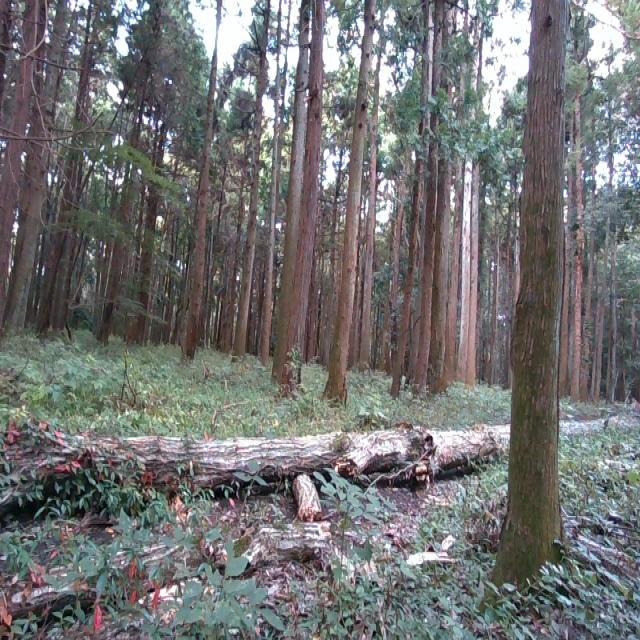tree: (0, 404, 640, 502), (489, 0, 591, 587), (270, 0, 326, 403), (6, 0, 65, 355), (329, 0, 378, 408), (390, 0, 431, 395), (100, 40, 152, 338), (233, 0, 271, 368), (185, 0, 223, 362), (0, 0, 38, 349), (459, 0, 489, 386), (430, 0, 453, 400), (591, 17, 614, 409), (573, 0, 585, 405)
